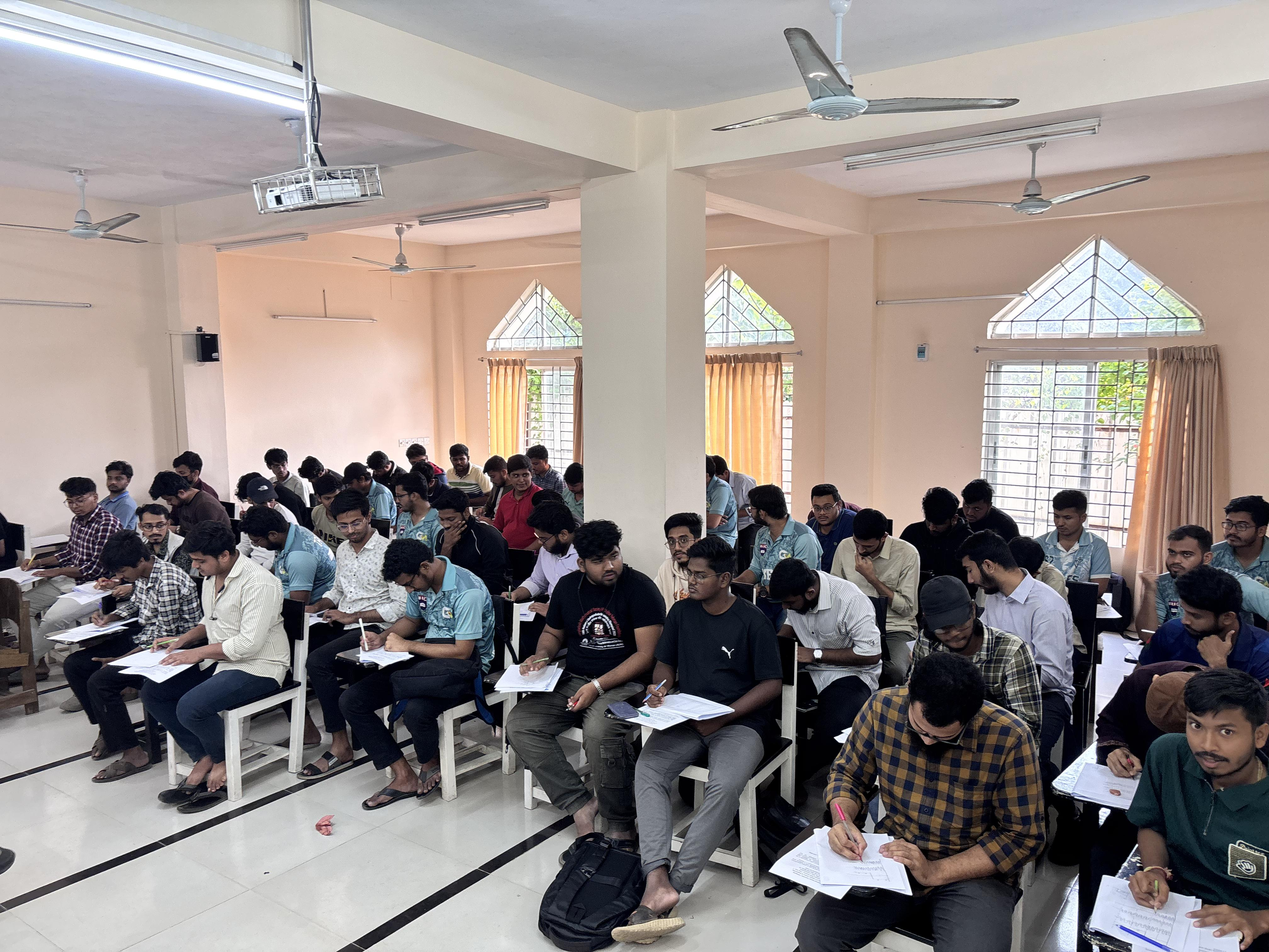copying: (522, 519, 659, 820), (1158, 560, 1254, 671), (736, 472, 807, 565), (323, 491, 381, 589), (55, 472, 100, 568), (132, 496, 183, 558), (386, 469, 428, 535), (258, 434, 307, 488), (311, 472, 343, 526), (245, 478, 289, 515)
no_cheating: (803, 642, 1009, 952), (1091, 661, 1262, 952), (631, 541, 760, 856), (344, 529, 479, 739), (156, 525, 257, 734), (66, 528, 179, 692), (763, 541, 862, 675), (233, 497, 324, 599), (911, 571, 996, 660), (831, 501, 908, 579), (1040, 482, 1105, 571), (517, 497, 576, 589), (423, 488, 488, 571), (1213, 491, 1269, 570), (144, 469, 218, 526), (910, 485, 969, 556), (793, 475, 848, 538), (657, 490, 698, 574), (1163, 523, 1212, 584), (959, 471, 1006, 534), (94, 451, 138, 512), (441, 439, 482, 483), (478, 455, 511, 500), (560, 459, 586, 513)
side_talking: (942, 525, 1037, 614), (504, 452, 536, 516)
